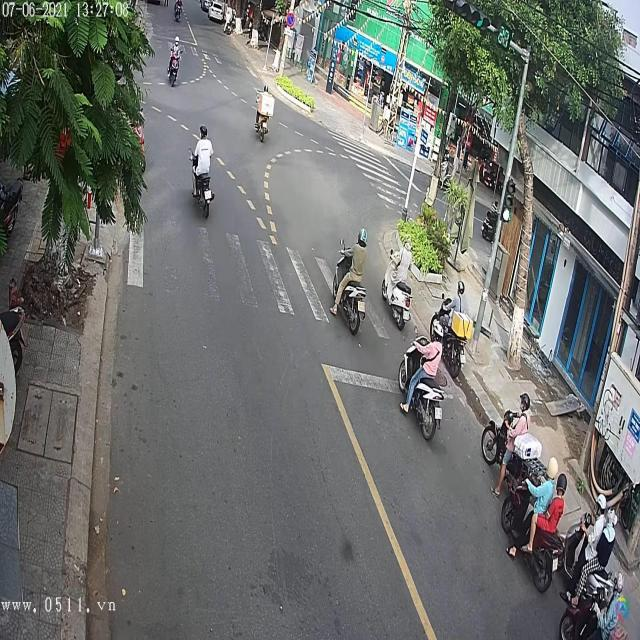motorcycle: (501, 464, 559, 598), (426, 283, 465, 381), (328, 242, 366, 341), (381, 245, 411, 336), (410, 381, 444, 443), (191, 165, 215, 221), (167, 50, 181, 87), (253, 114, 270, 143), (173, 2, 183, 22)
